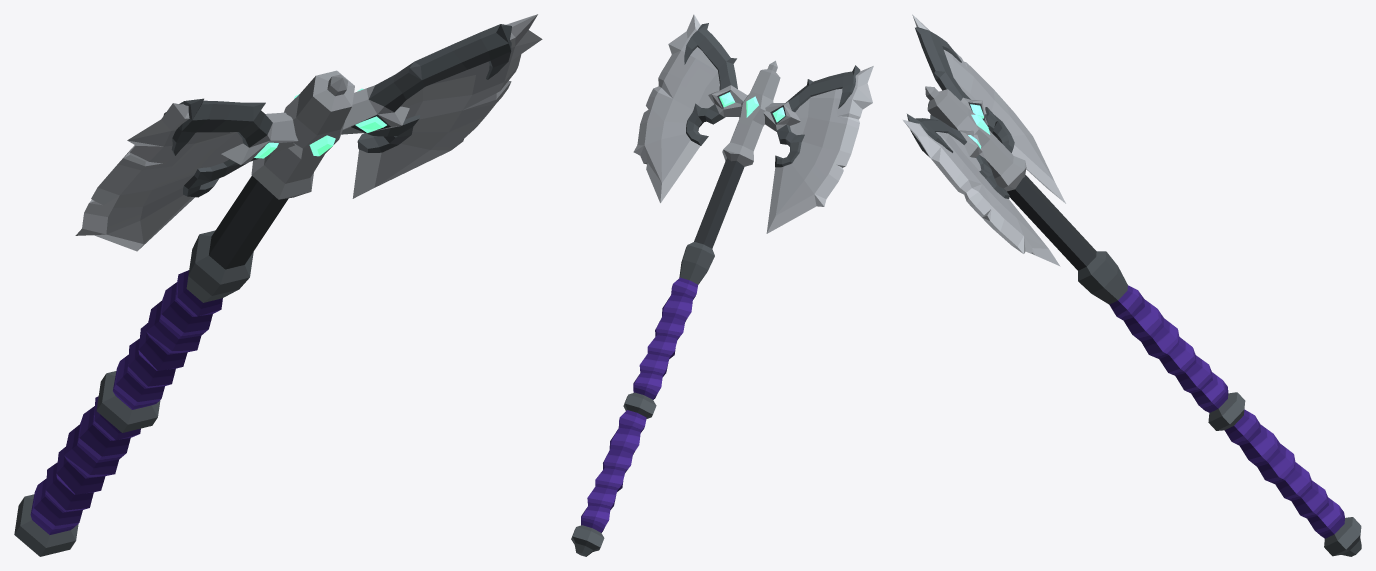
File: er-axe-06.glb
The picture shows the model from 3 angles, left to right: view 1: azimuth 30°, elevation 25°; view 2: azimuth 150°, elevation 25°; view 3: azimuth 270°, elevation 25°; orthographic projection. The views are drawn at different scales.
Visible parts, largest first — view 1: er-axe-06; view 2: er-axe-06; view 3: er-axe-06.
Boxes of the visible parts, left/top/right/bottom form: er-axe-06: left=14, top=14, right=542, bottom=556; er-axe-06: left=571, top=14, right=873, bottom=556; er-axe-06: left=902, top=14, right=1361, bottom=556.
Size of the model in its own units: 0.5854 by 1.04 by 0.9028.
Materials: 1 (1 with a texture image).
